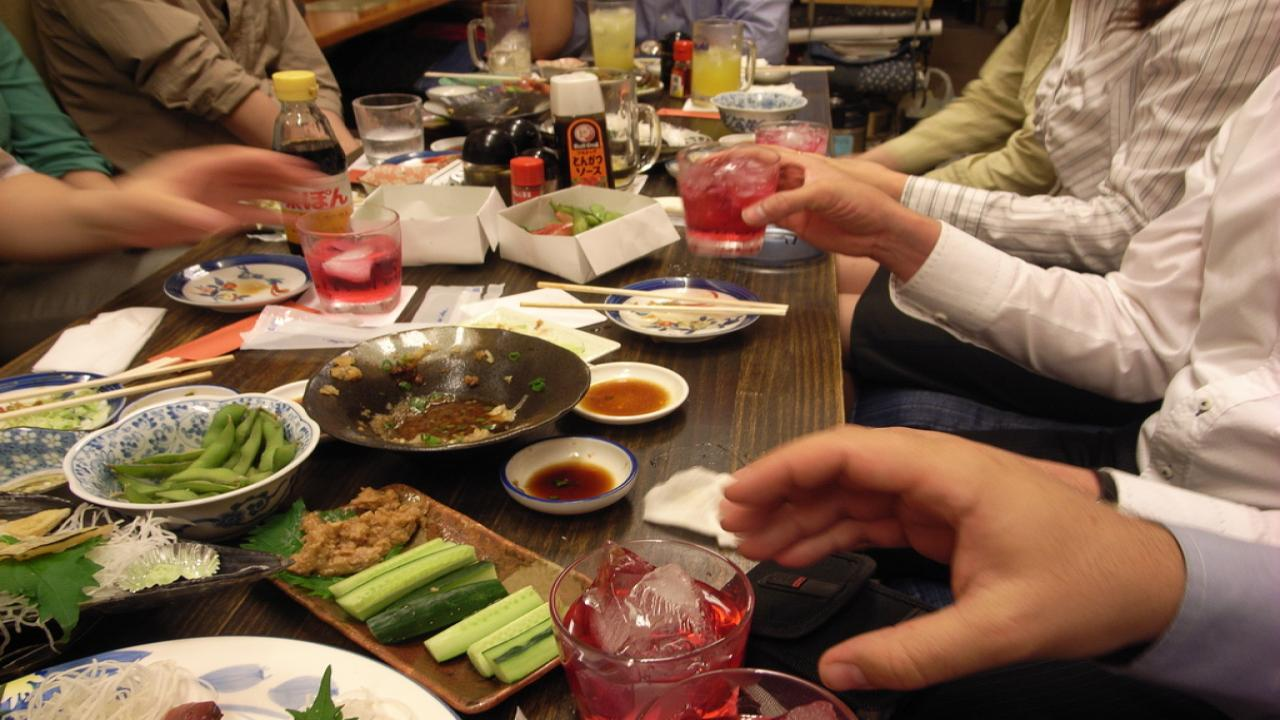chopstick: (0, 355, 235, 415), (522, 282, 786, 316)
